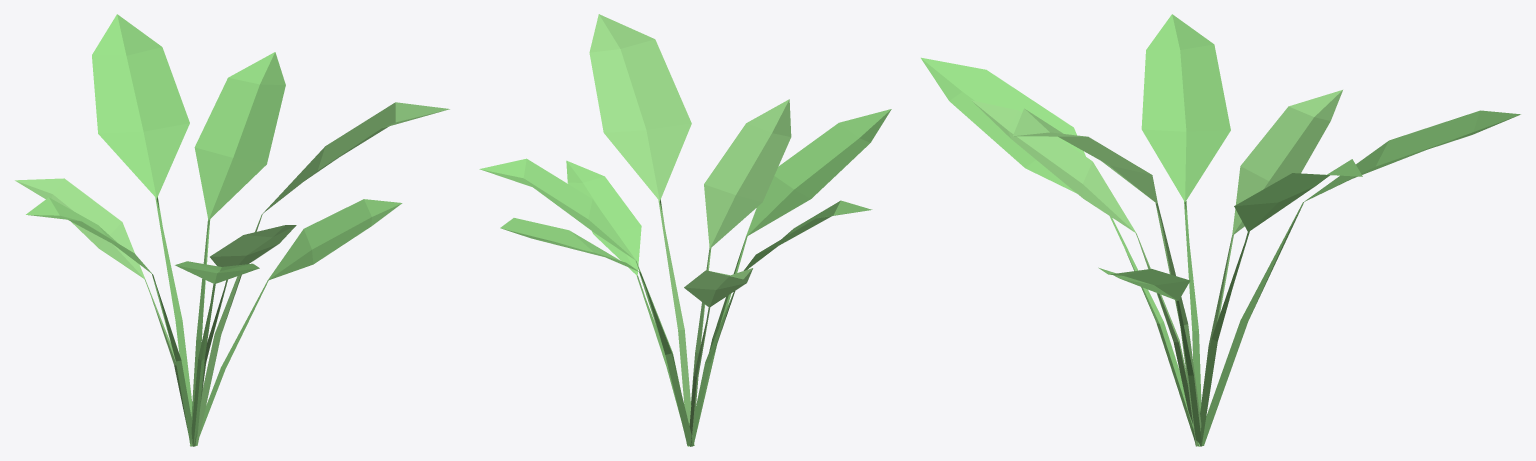
Rendered from Plant_j_OneS_05.fbx.
3 views of the same model, side by side, from view 1: azimuth 30°, elevation 25°; view 2: azimuth 150°, elevation 25°; view 3: azimuth 270°, elevation 25° (orthographic). The views are drawn at different scales.
Parts seen in each view (by area): view 1: Plant_j_OneS_05; view 2: Plant_j_OneS_05; view 3: Plant_j_OneS_05.
Boxes of the visible parts, box(x1,y1,x2,y2) form: Plant_j_OneS_05: box(15, 14, 449, 446); Plant_j_OneS_05: box(479, 14, 891, 446); Plant_j_OneS_05: box(921, 14, 1520, 446).
Bounding box in the file's own units: 52.24 × 49.32 × 65.59.
